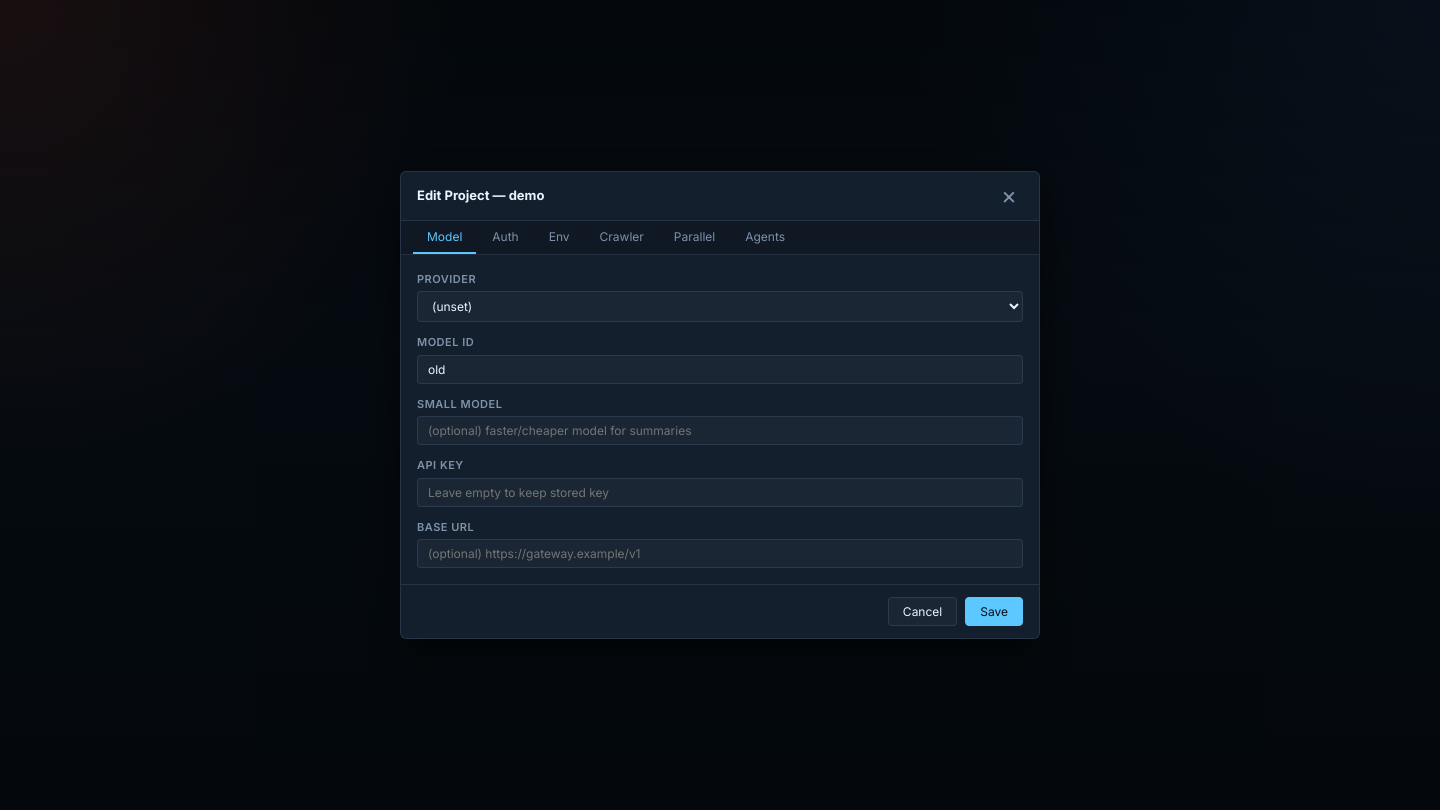
Test case: ProjectEditModal › switches tabs without losing drafted changes
Replace the text in the field labelled "Model ID" with "gpt-4o". click: (720, 369)
box: x1=417 y1=355 x2=1023 y2=384
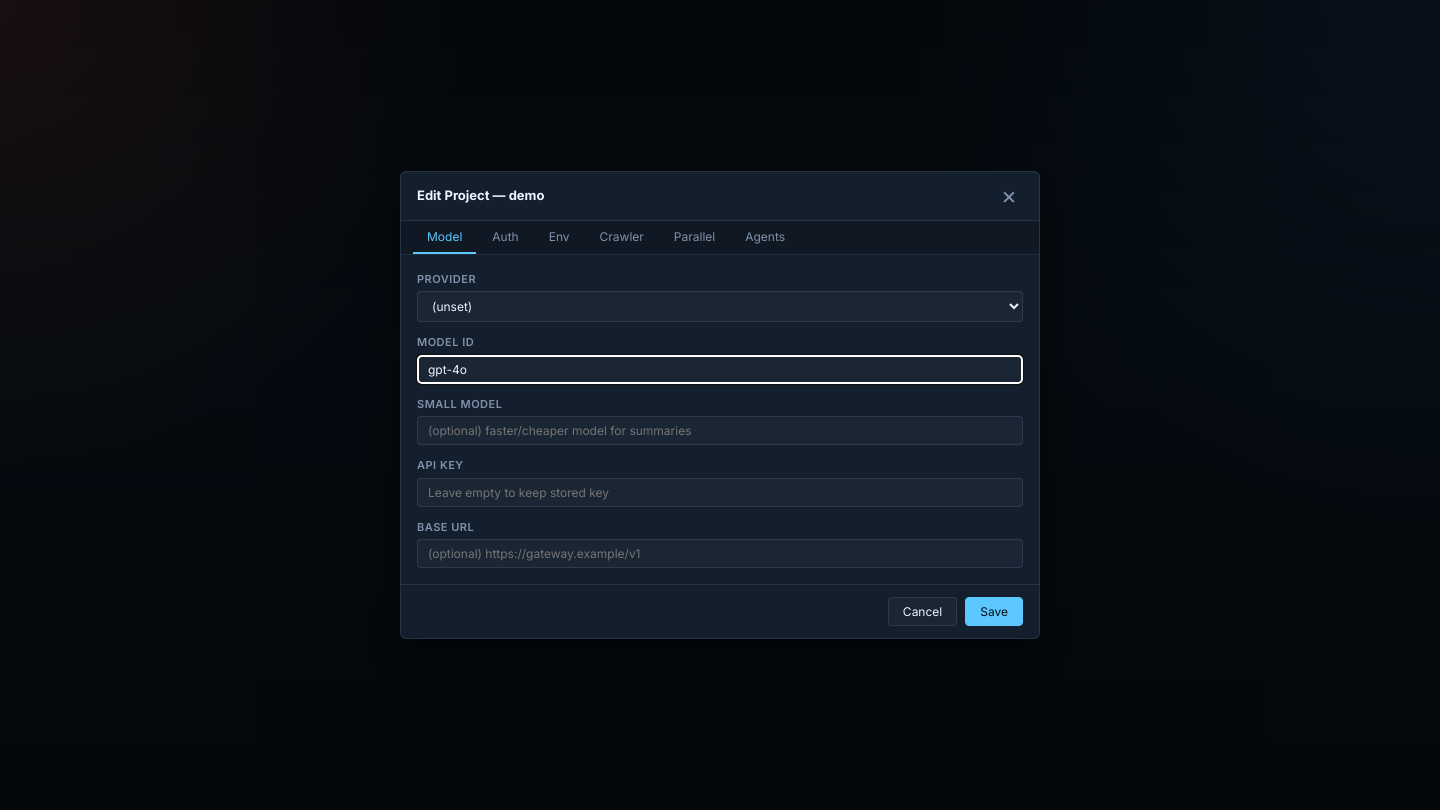
Click the tab "Crawler". click: (622, 237)
box: x1=586 y1=221 x2=658 y2=254
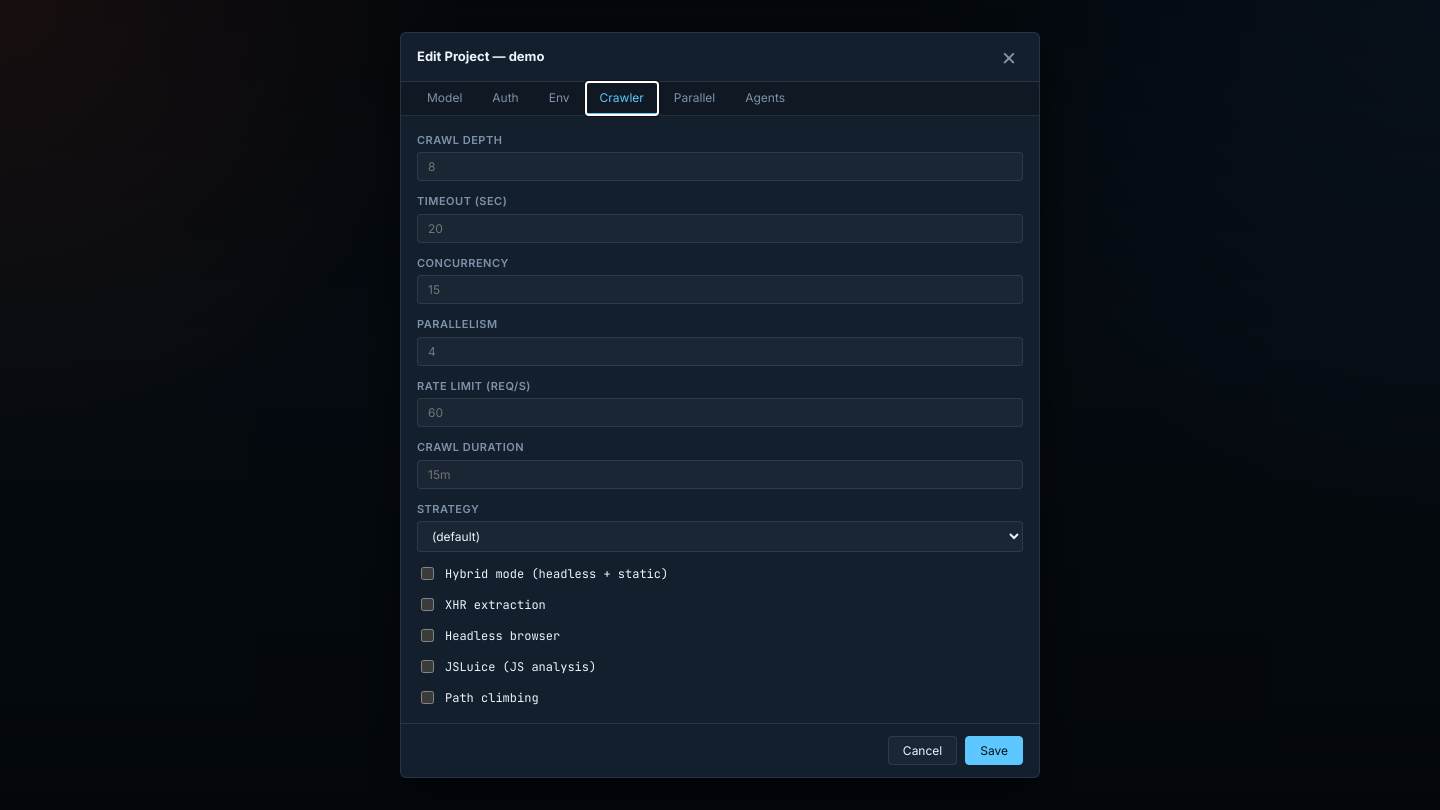
Click the tab "Model". click: (445, 98)
box: x1=413 y1=82 x2=476 y2=115
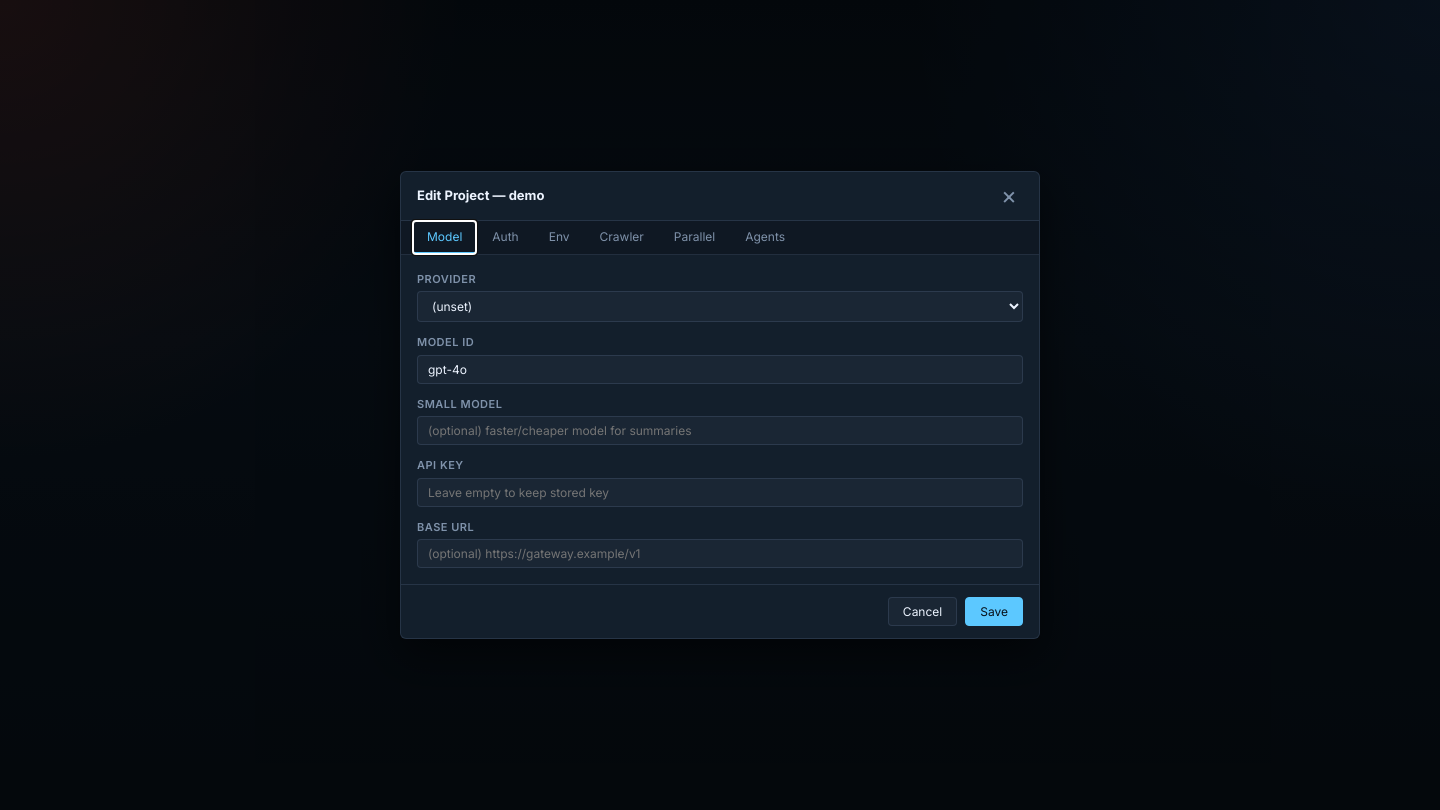
expect the field labelled "Model ID" holds "gpt-4o": met, box x1=417 y1=355 x2=1023 y2=384
